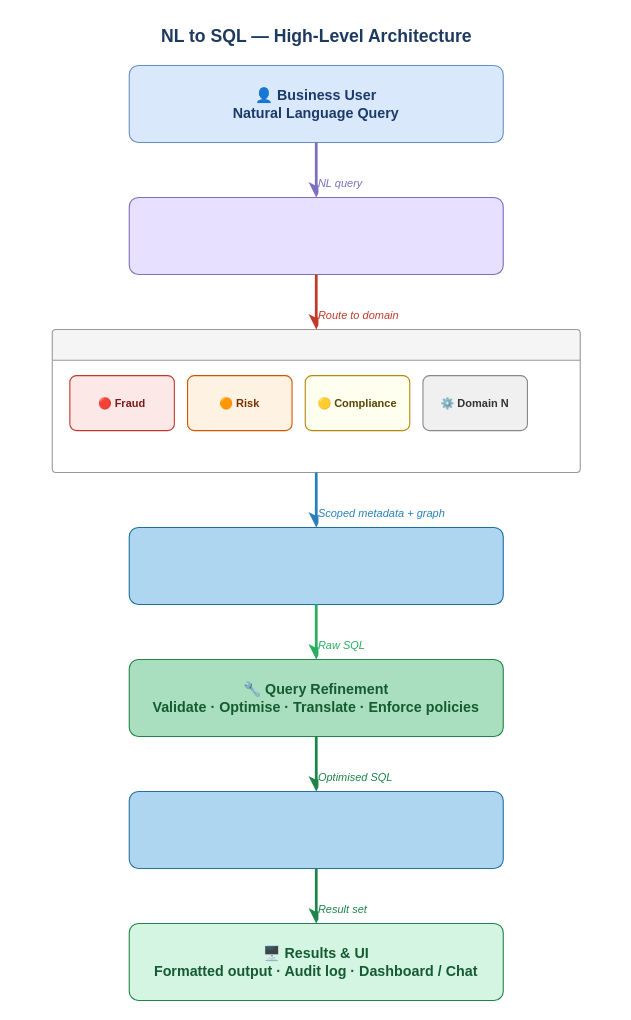
This 631x1020 diagram has some shape labels left out. The box of each missing label's shape, as (x1, y1, x2, y2) in pixels:
③ Data Product & Metadata Layer: (51, 328, 580, 472)
⚙️ Federated SQL Engine Executes across fraud_db · risk_db · compliance_db · …: (128, 790, 503, 868)
🤖 Routing Agent Classifies query to Data Product domain: (128, 196, 503, 274)
🧠 LLM Engine Generates SQL from NL + scoped metadata: (128, 526, 503, 604)
